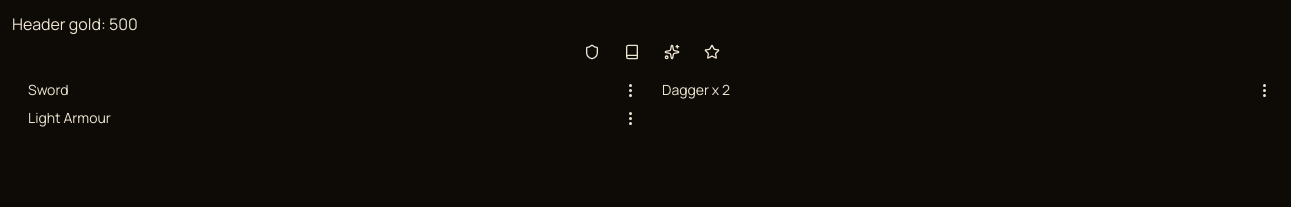
Test: unit item menu: Buy again › says so when the item can't be loaded for Buy again (ECON-UX-05)
Step 1. Click the button named "Actions for Dagger x 2" → (1264,90), box x1=1256 y1=80 x2=1272 y2=100
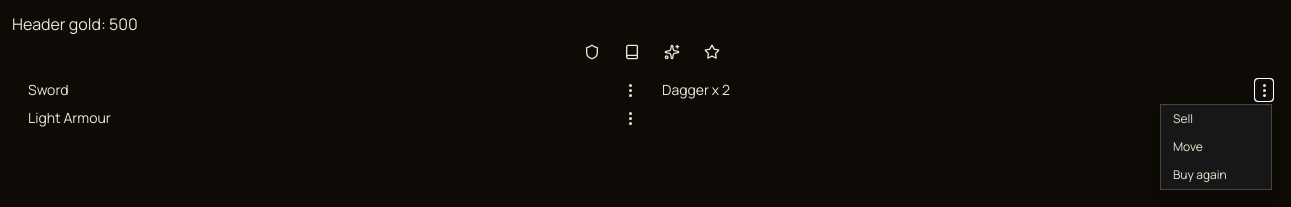
Step 2. Click the button "Buy again" → (1216,175), box x1=1161 y1=161 x2=1271 y2=189
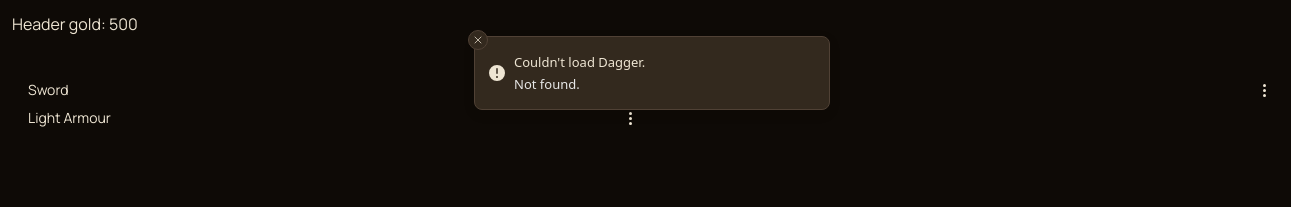
Result: the text "Couldn't load Dagger." is shown at x1=514 y1=53 x2=645 y2=72
Result: the text "Not found." is shown at x1=514 y1=74 x2=580 y2=92
